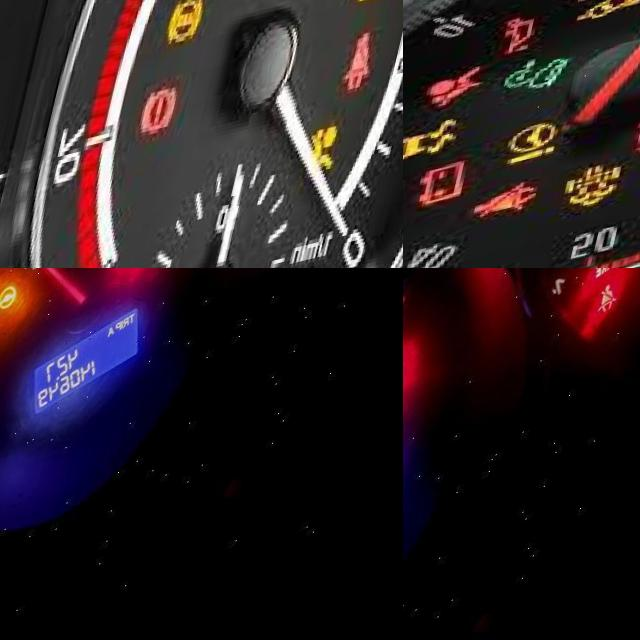Electronic Power Steering Warning: (517, 130, 577, 180), (1, 295, 38, 329)
Seat Belt: (483, 191, 554, 241), (357, 57, 394, 120), (605, 308, 636, 344)
